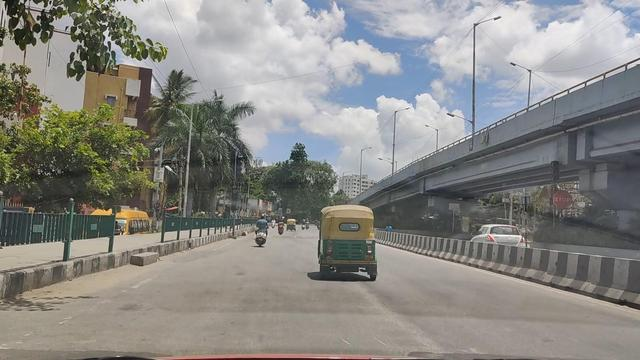LMV: (318, 204, 375, 278)
RoadDamages: (324, 316, 448, 355)
